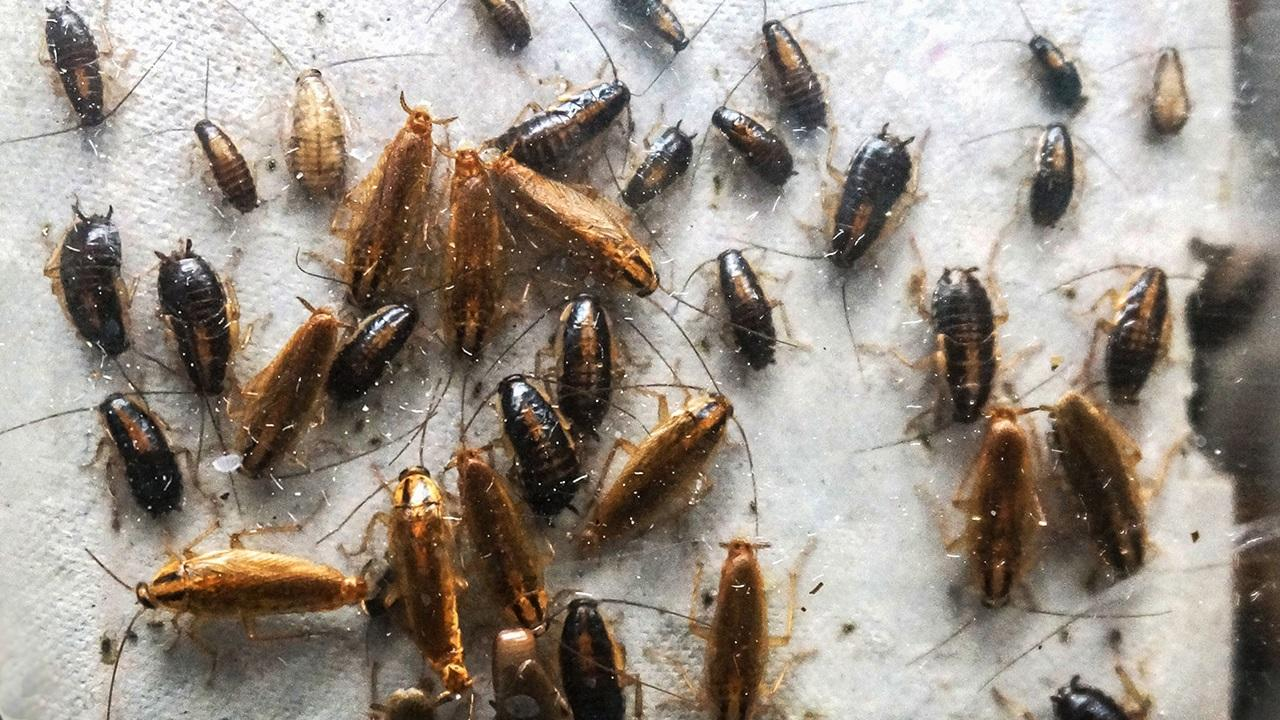cockroach: (472, 140, 664, 301), (128, 530, 376, 652), (572, 382, 734, 564), (374, 460, 482, 695), (337, 90, 441, 310), (446, 441, 560, 640), (1044, 386, 1150, 574), (235, 305, 341, 485), (956, 406, 1046, 615), (429, 147, 511, 364), (906, 258, 1006, 430), (689, 534, 780, 720), (490, 360, 590, 524), (44, 202, 140, 370), (476, 76, 636, 170), (827, 118, 919, 272), (1096, 246, 1175, 415), (97, 384, 187, 525), (155, 244, 232, 401), (546, 290, 620, 449), (41, 1, 118, 142), (324, 300, 420, 408), (708, 242, 784, 373), (279, 62, 348, 206), (553, 586, 627, 718), (758, 16, 829, 136), (708, 102, 796, 188), (193, 110, 260, 222), (615, 122, 696, 210), (1023, 120, 1079, 236), (1027, 26, 1085, 112), (609, 0, 699, 55), (1140, 44, 1190, 142), (484, 0, 536, 58)
